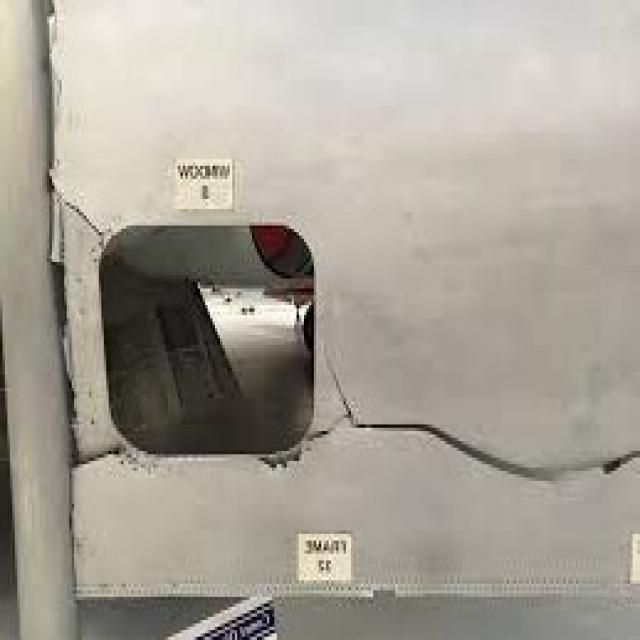crack: (340, 363, 627, 509), (56, 190, 110, 247), (78, 445, 138, 492)
